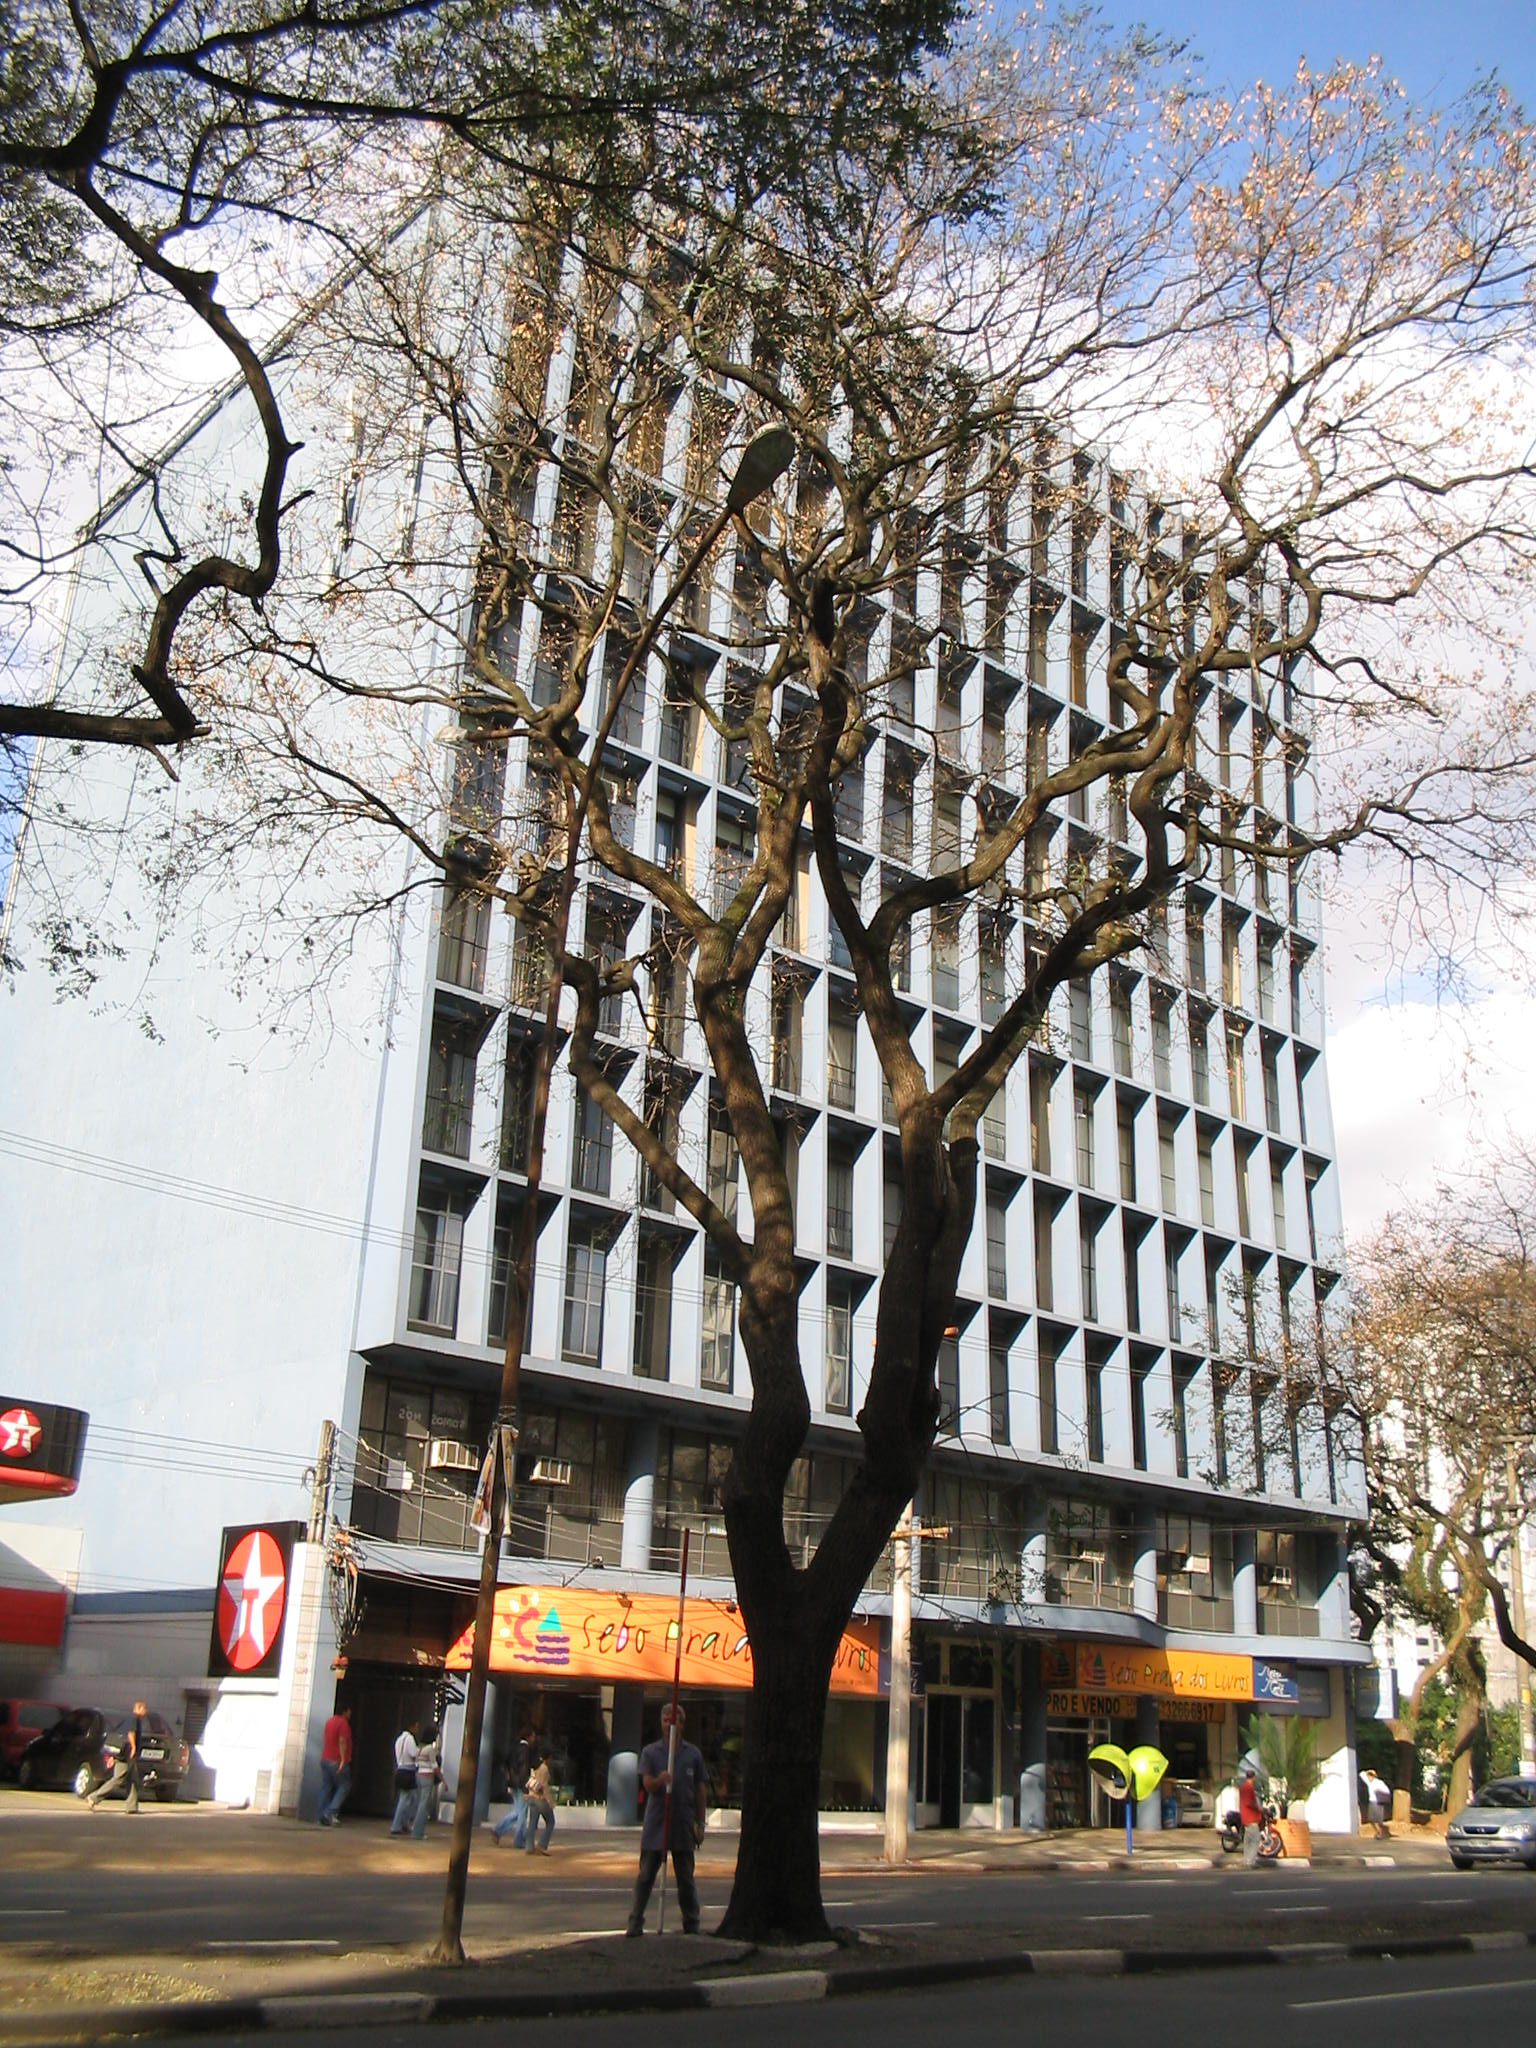stem: (708, 1605, 887, 1946)
stick: (636, 1526, 708, 1932)
tree: (287, 13, 1525, 1934)
